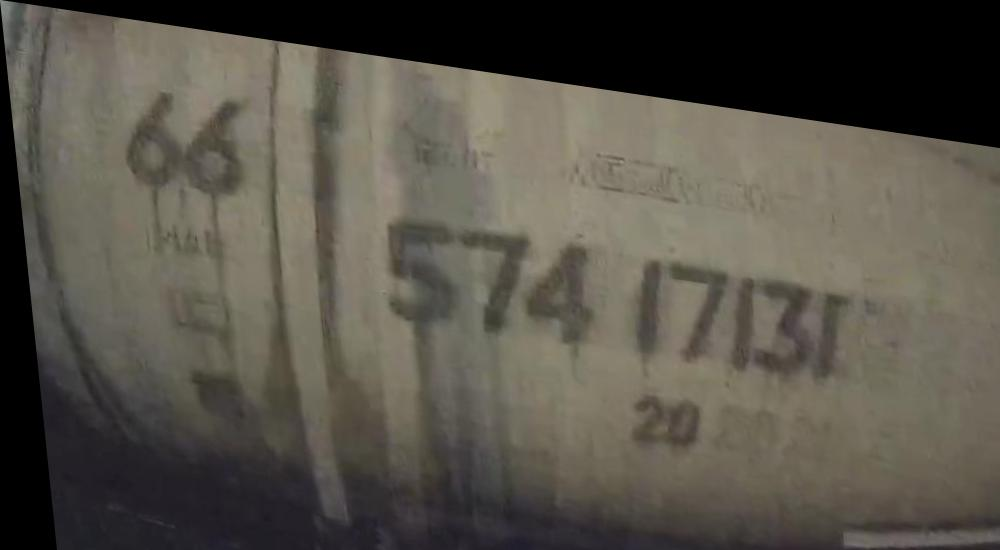Wagon-number: (367, 191, 848, 372)
